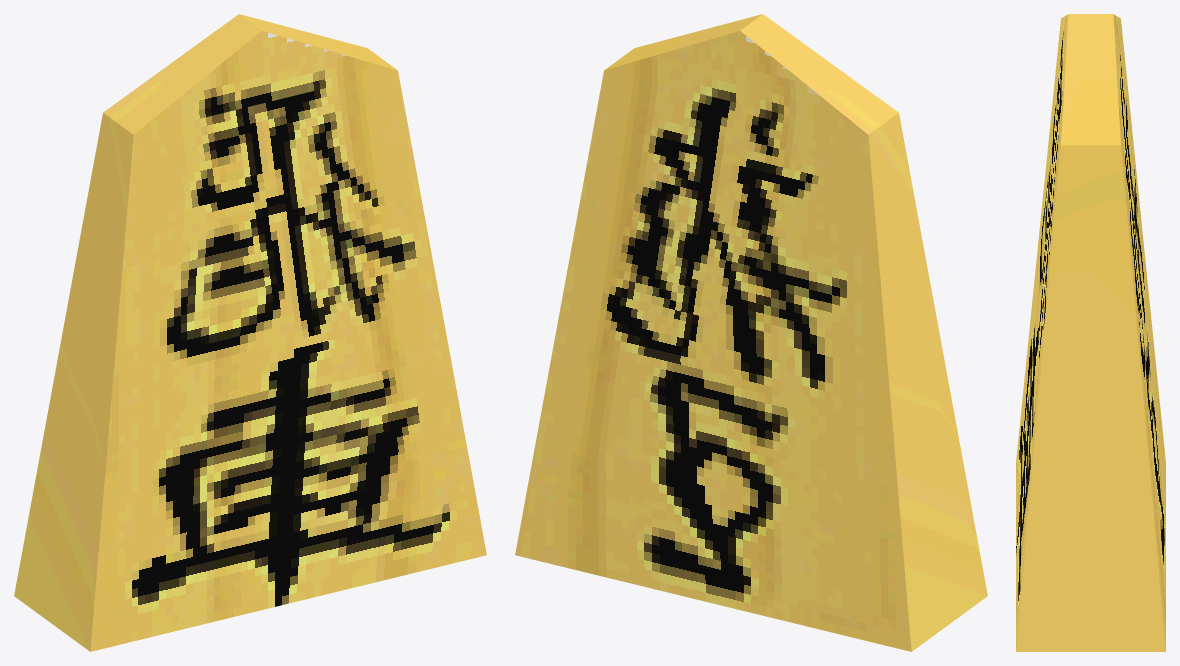
Rendered from ps2_save-icons_moritashougi-databasefile.glb.
3 views of the same model, side by side, from view 1: azimuth 30°, elevation 25°; view 2: azimuth 150°, elevation 25°; view 3: azimuth 270°, elevation 25° (orthographic).
Visible parts, largest first — view 1: icon1.ico; view 2: icon1.ico; view 3: icon1.ico.
Part boxes in pixels (bbox=[...]): icon1.ico: bbox=[14, 14, 486, 651]; icon1.ico: bbox=[515, 14, 987, 651]; icon1.ico: bbox=[1016, 14, 1165, 651].
Size of the model in its own units: 2.25 by 3 by 0.75.
1 material, 1 textured.
